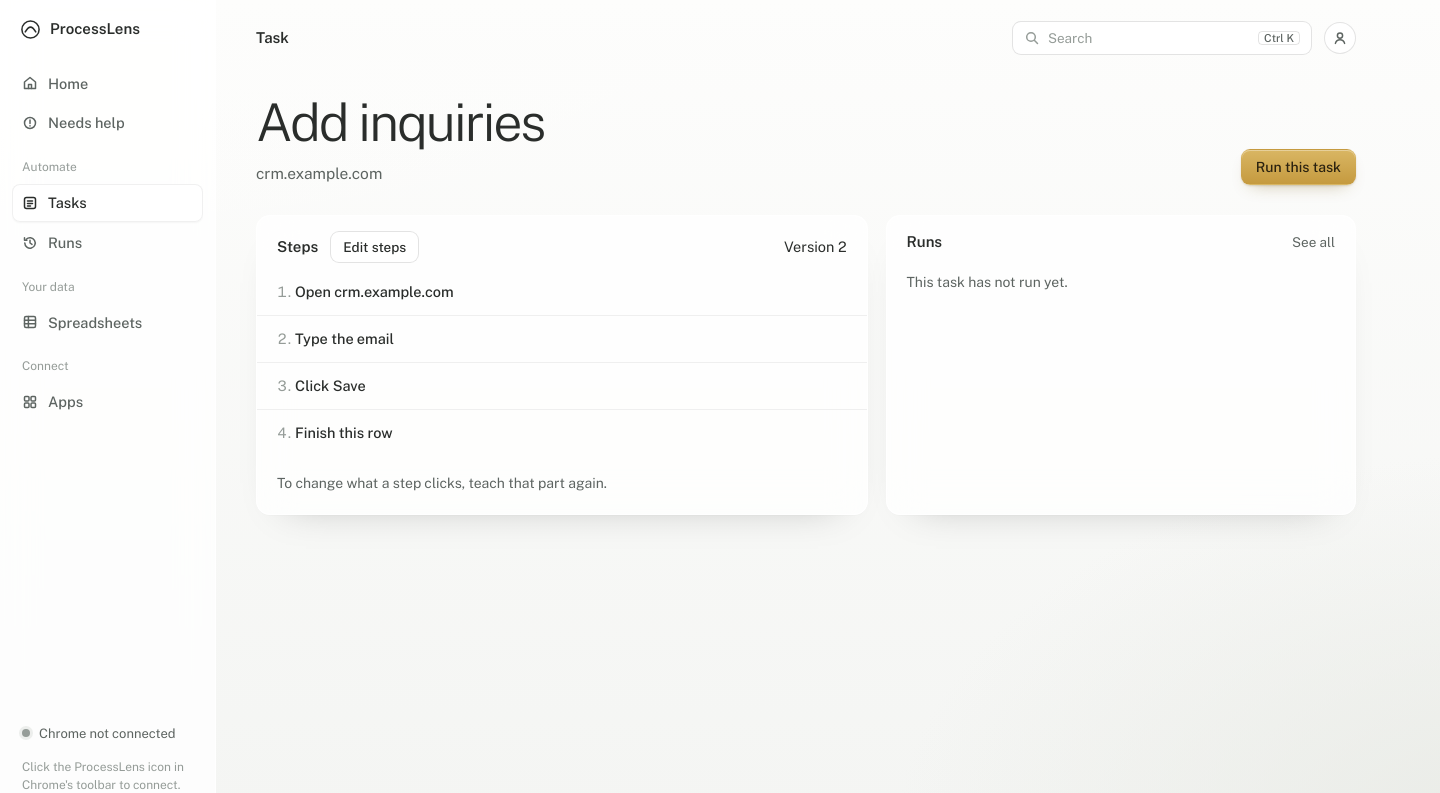
it: the workflow editor › shows the API's problems in plain words on a refusal, and changes nothing
Click the button "Edit steps" at [375, 247], box [330,231,419,263]
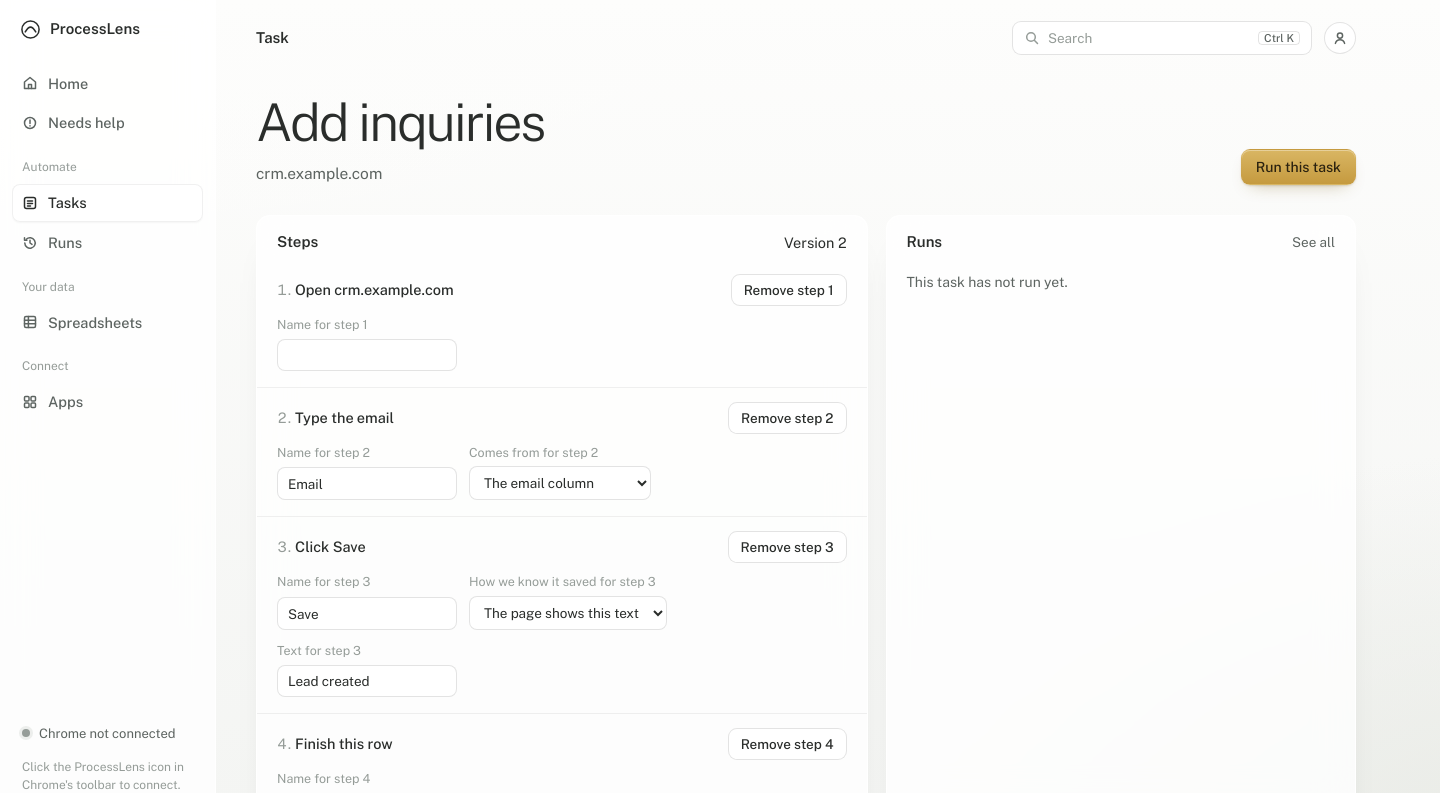
Replace the text in the field labelled "Name for step 2" with "Work email" at [367, 484], box [277,467,457,500]
(page scrolled)
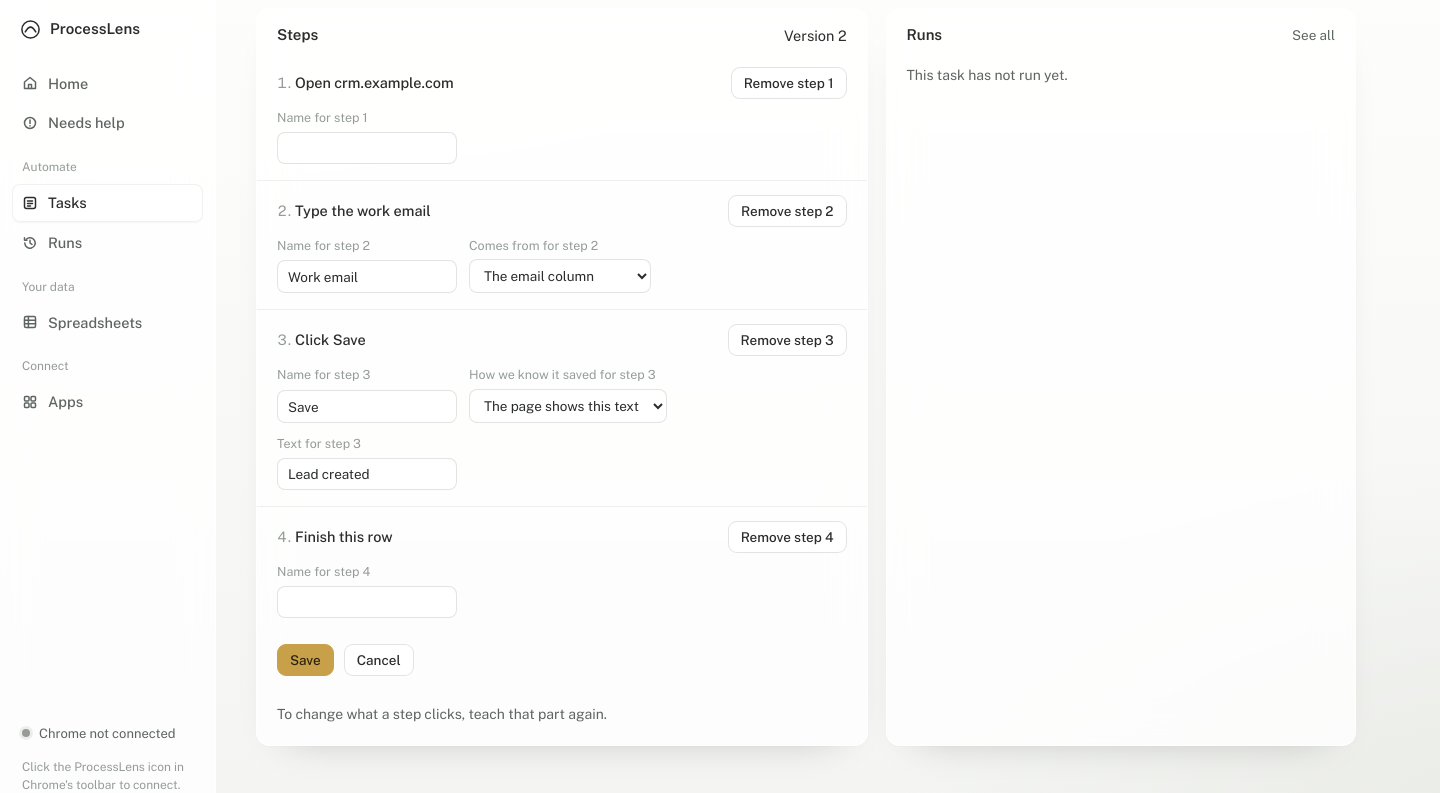
Click the button "Save" at [305, 660], box [277,644,334,676]
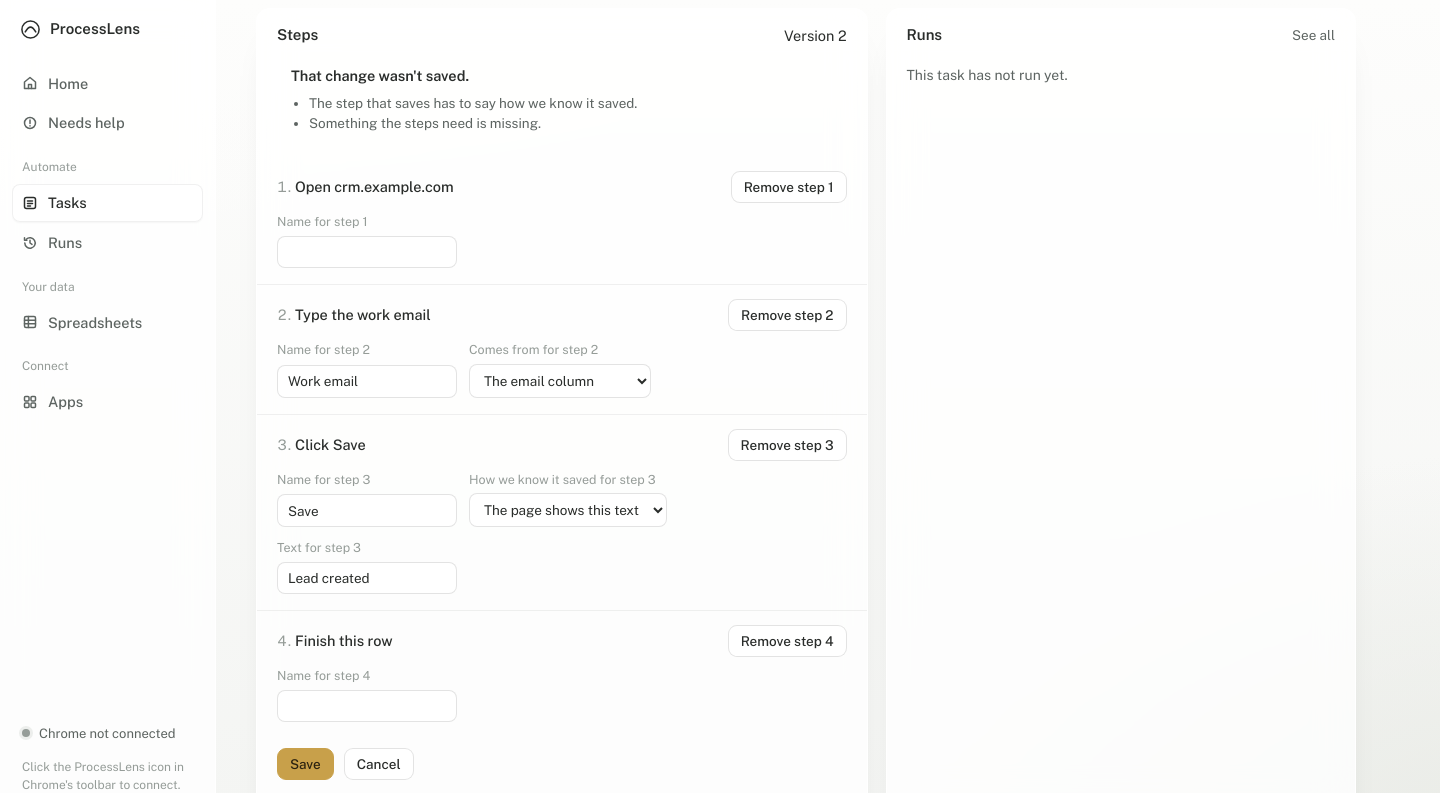
Expected: the button "Save" is shown, [277,748,334,780]
Expected: the list item "The step that saves has to say how we know it saved." is shown, [309,95,637,111]
Expected: the list item "Something the steps need is missing." is shown, [309,115,541,131]
